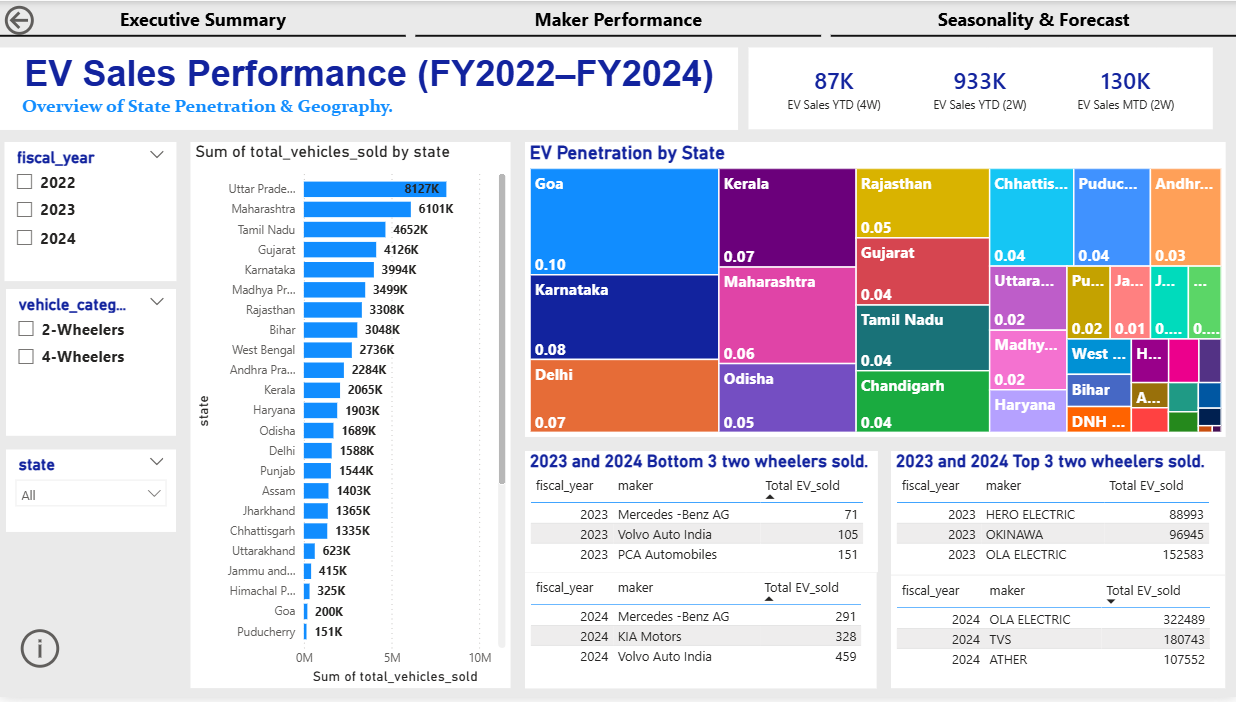

The page's visual inventory and layout, read from the dashboard file:
{"tool":"powerbi","page":{"name":"State Penetration & Geography","canvas":[1280,720],"ordinal":3},"visuals":[{"type":"treemap","title":"EV Penetration by State","fields":{"Values":["electric_vehicle_sales_by_state.Penetration%"],"Group":["electric_vehicle_sales_by_state.state"]},"box":[542.8,145.4,725.4,305.3],"z":0},{"type":"tableEx","title":"2023 and 2024 Bottom 3 two wheelers sold.","fields":{"Values":["dim_date.fiscal_year","electric_vehicle_sales_by_makers.maker","Sum(electric_vehicle_sales_by_makers.electric_vehicles_sold)"]},"box":[543,465.3,365.1,125.4],"z":0,"group":"g2"},{"type":"tableEx","title":"2023 and 2024 Top 3 two wheelers sold.","fields":{"Values":["dim_date.fiscal_year","electric_vehicle_sales_by_makers.maker","Sum(electric_vehicle_sales_by_makers.electric_vehicles_sold)"]},"box":[922.4,465.3,345.7,128.2],"z":0,"group":"g1"},{"type":"actionButton","box":[0,0,100,40],"z":1000},{"type":"tableEx","fields":{"Values":["dim_date.fiscal_year","electric_vehicle_sales_by_makers.maker","Sum(electric_vehicle_sales_by_makers.electric_vehicles_sold)"]},"box":[542.8,590.6,363.7,120.3],"z":1000,"group":"g2"},{"type":"tableEx","fields":{"Values":["dim_date.fiscal_year","electric_vehicle_sales_by_makers.maker","Sum(electric_vehicle_sales_by_makers.electric_vehicles_sold)"]},"box":[922.7,594.6,345.7,116.4],"z":1000,"group":"g1"},{"type":"slicer","fields":{"Values":["electric_vehicle_sales_by_state.state"]},"box":[6.8,465,175.7,85.2],"z":2000},{"type":"pageNavigator","box":[0,0,1280.1,37.8],"z":3000},{"type":"group","id":"g1","title":"Group 1","box":[922.4,465.3,345.7,245.6],"z":4000},{"type":"group","id":"g2","title":"Group 1","box":[542.8,465.3,365.1,245.6],"z":5000},{"type":"textbox","box":[0,48.5,764.1,85.6],"z":6000},{"type":"actionButton","box":[16.2,644.6,155.1,51.7],"z":7000},{"type":"slicer","fields":{"Values":["electric_vehicle_sales_by_makers.vehicle_category"]},"box":[6.5,298.9,176.1,151.9],"z":8000},{"type":"slicer","fields":{"Values":["dim_date.fiscal_year"]},"box":[4.8,145.4,177.7,143.8],"z":9000},{"type":"cardVisual","fields":{"Data":["electric_vehicle_sales_by_makers.EV Sales YTD (4W)","electric_vehicle_sales_by_makers.EV Sales YTD (2W)","electric_vehicle_sales_by_makers.EV Sales MTD (2W)"]},"box":[775.3,48.2,480.8,84.9],"z":10000},{"type":"barChart","fields":{"Category":["electric_vehicle_sales_by_state.state"],"Y":["Sum(electric_vehicle_sales_by_state.total_vehicles_sold)"]},"box":[197.1,145.4,331.2,565.4],"z":11000}]}

Visuals, with their boxes in screenshot pixels (x1, y1, x2, y2), scaled from the page's 1280x720 canvas onto the 1236x702 screenshot:
"EV Penetration by State" treemap: l=524, t=142, r=1225, b=439
"2023 and 2024 Bottom 3 two wheelers sold." tableEx: l=524, t=454, r=877, b=576
"2023 and 2024 Top 3 two wheelers sold." tableEx: l=891, t=454, r=1225, b=579
actionButton: l=0, t=0, r=97, b=39
tableEx - dim_date.fiscal_year x electric_vehicle_sales_by_makers.maker: l=524, t=576, r=875, b=693
tableEx - dim_date.fiscal_year x electric_vehicle_sales_by_makers.maker: l=891, t=580, r=1225, b=693
slicer - electric_vehicle_sales_by_state.state: l=7, t=453, r=176, b=536
pageNavigator: l=0, t=0, r=1235, b=37
"Group 1" group: l=891, t=454, r=1225, b=693
"Group 1" group: l=524, t=454, r=877, b=693
textbox: l=0, t=47, r=738, b=131
actionButton: l=16, t=628, r=165, b=679
slicer - electric_vehicle_sales_by_makers.vehicle_category: l=6, t=291, r=176, b=440
slicer - dim_date.fiscal_year: l=5, t=142, r=176, b=282
cardVisual - electric_vehicle_sales_by_makers.EV Sales YTD (4W) x electric_vehicle_sales_by_makers.EV Sales YTD (2W): l=749, t=47, r=1213, b=130
barChart - electric_vehicle_sales_by_state.state x Sum(electric_vehicle_sales_by_state.total_vehicles_sold): l=190, t=142, r=510, b=693
